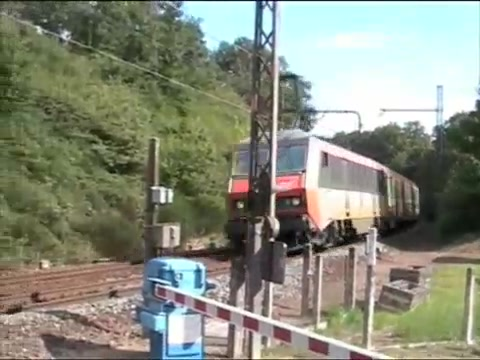train: (227, 123, 423, 249)
